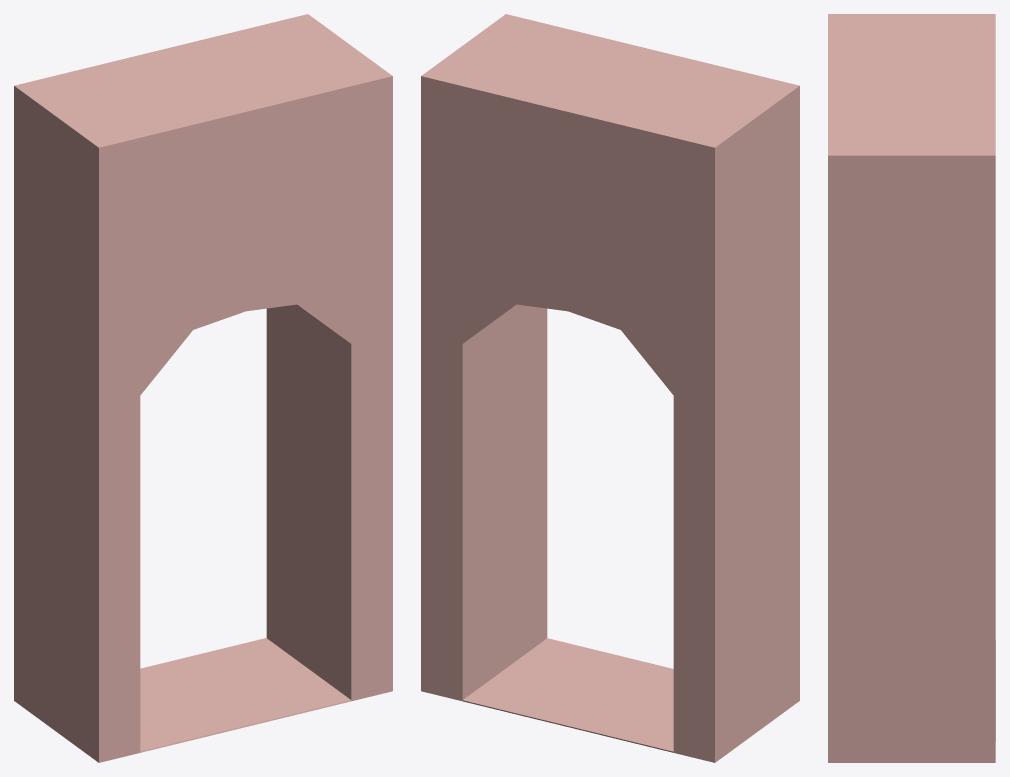
File: Wall_Door.fbx
3 renders of one model, left to right at view 1: azimuth 30°, elevation 25°; view 2: azimuth 150°, elevation 25°; view 3: azimuth 270°, elevation 25°, orthographic.
Visible parts, largest first — view 1: Wall_Door; view 2: Wall_Door; view 3: Wall_Door.
Boxes of the visible parts, x1=… form: Wall_Door: x1=14, y1=14, x2=392, y2=762; Wall_Door: x1=421, y1=14, x2=799, y2=762; Wall_Door: x1=828, y1=14, x2=995, y2=762.
Bounding box in the file's own units: 500 × 1000 × 250.
